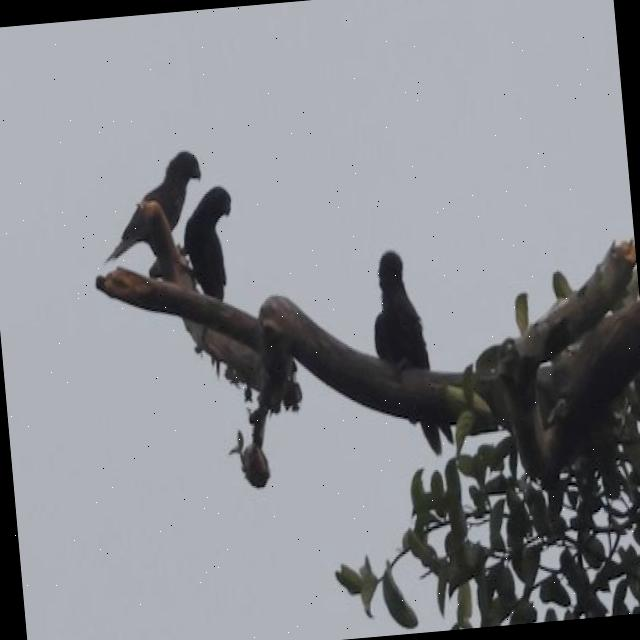Nuri Hitam: (352, 237, 471, 468), (91, 125, 211, 290), (172, 175, 252, 325)
